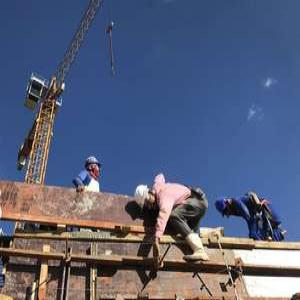blue: (216, 197, 232, 219), (86, 157, 102, 177)
white: (136, 185, 156, 214)
